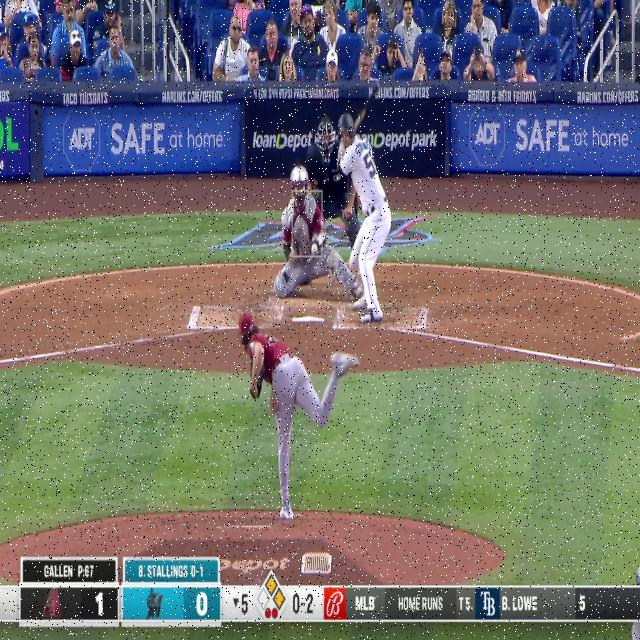baseball: (310, 242, 319, 256)
